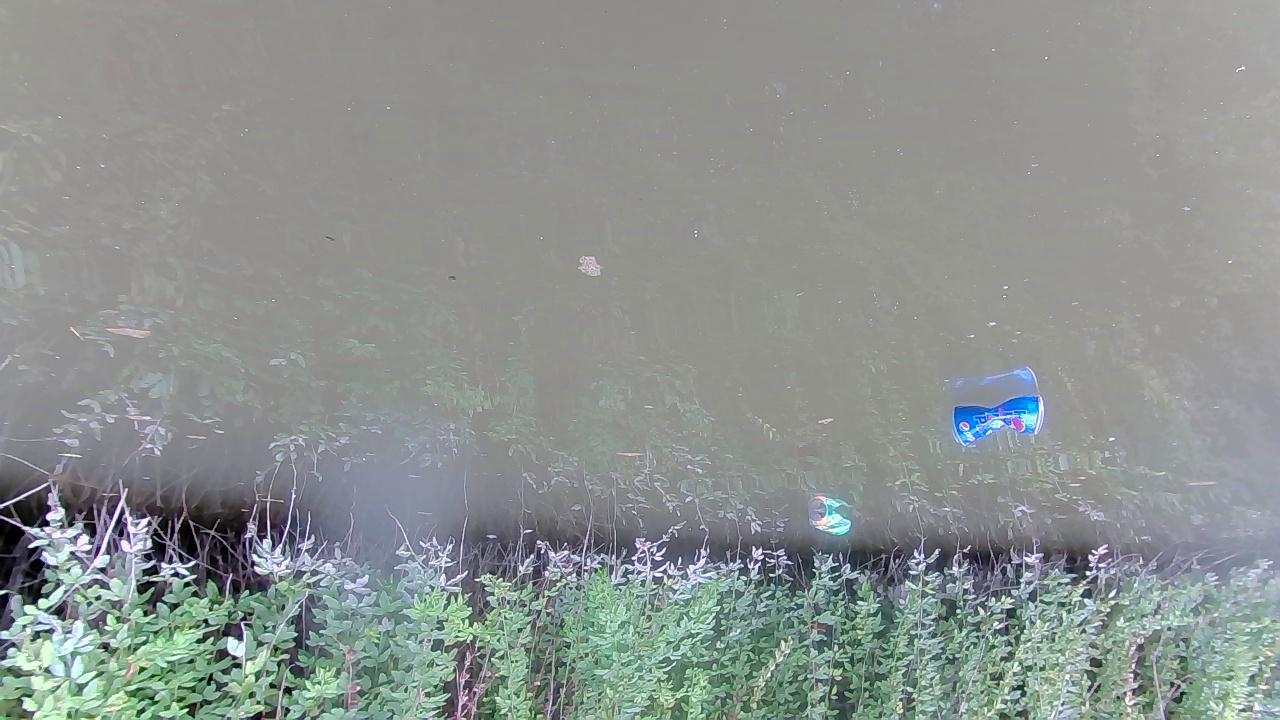Metal: (949, 394, 1046, 448), (805, 505, 855, 536)
